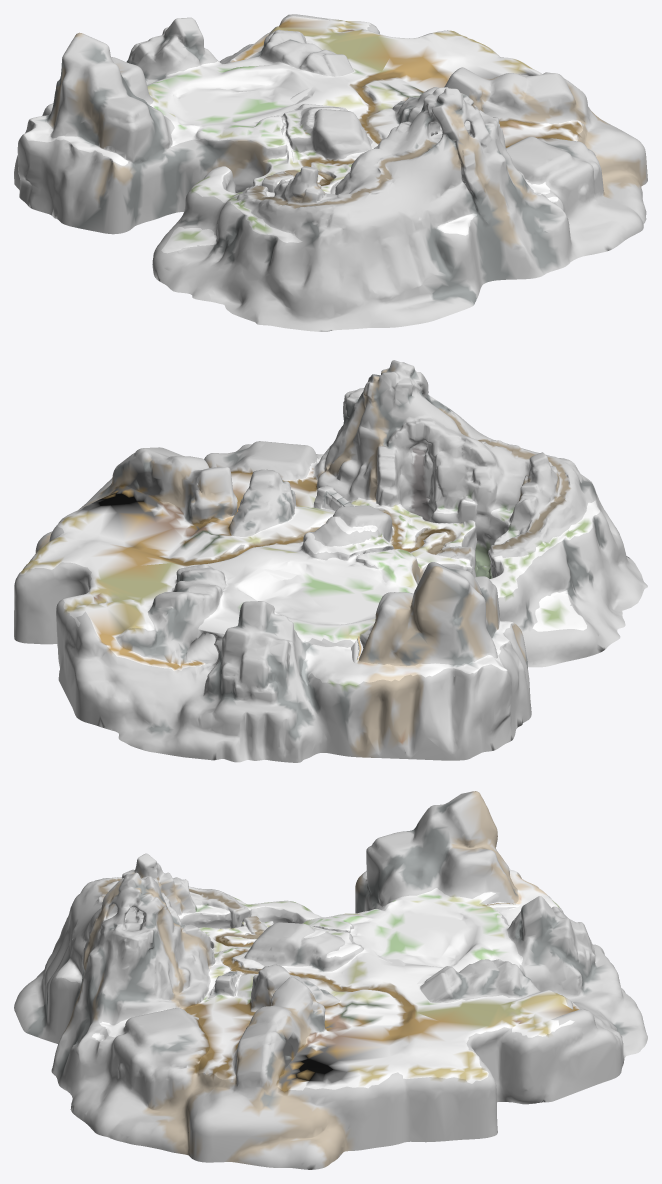
The model's file is UKONG-ISLAND.glb.
The picture shows the model from 3 angles, top to bottom: view 1: azimuth 30°, elevation 25°; view 2: azimuth 150°, elevation 25°; view 3: azimuth 270°, elevation 25°; orthographic projection. The views are drawn at different scales.
Parts seen in each view (by area): view 1: 1-LANDSCAPE; view 2: 1-LANDSCAPE; view 3: 1-LANDSCAPE.
Boxes of the visible parts, x1=… form: 1-LANDSCAPE: x1=14, y1=14, x2=647, y2=331; 1-LANDSCAPE: x1=14, y1=360, x2=647, y2=762; 1-LANDSCAPE: x1=14, y1=791, x2=647, y2=1169.
Size of the model in its own units: 1548 by 494 by 1635.
